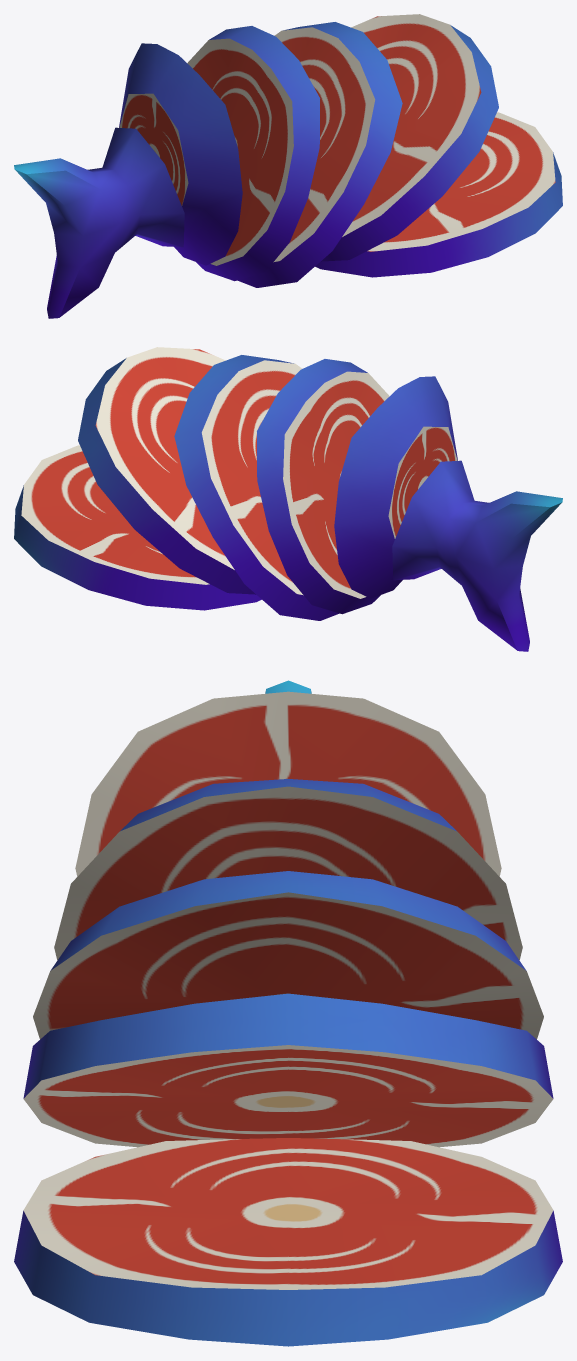
The model's file is Fish_01_S5.fbx.
3 renders of one model, top to bottom at view 1: azimuth 30°, elevation 25°; view 2: azimuth 150°, elevation 25°; view 3: azimuth 270°, elevation 25°, orthographic. The views are drawn at different scales.
Visible parts, largest first — view 1: Fish_01_S5; view 2: Fish_01_S5; view 3: Fish_01_S5.
Boxes of the visible parts, x1=… form: Fish_01_S5: x1=14, y1=14, x2=562, y2=318; Fish_01_S5: x1=14, y1=347, x2=562, y2=651; Fish_01_S5: x1=14, y1=680, x2=562, y2=1346.
Size of the model in its own units: 85.96 by 35.93 by 42.86.
